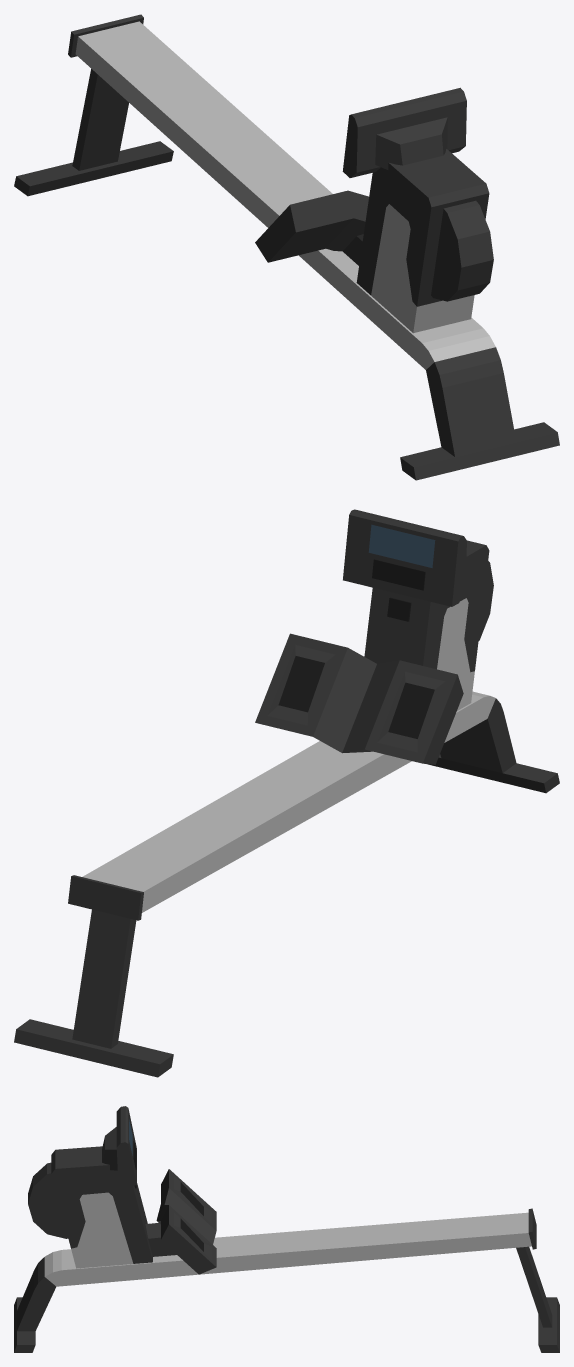
Rendered from stationary-rowing-machine.glb.
3 renders of one model, top to bottom at view 1: azimuth 30°, elevation 25°; view 2: azimuth 150°, elevation 25°; view 3: azimuth 270°, elevation 25°, orthographic. The views are drawn at different scales.
Parts seen in each view (by area): view 1: Stationary_Rowing_Machine; view 2: Stationary_Rowing_Machine; view 3: Stationary_Rowing_Machine.
Boxes of the visible parts, left/top/right/bottom form: Stationary_Rowing_Machine: left=14, top=14, right=559, bottom=480; Stationary_Rowing_Machine: left=14, top=509, right=559, bottom=1077; Stationary_Rowing_Machine: left=14, top=1106, right=559, bottom=1352.
Bounding box in the file's own units: 55.42 × 95.28 × 230.
1 material, 1 textured.
